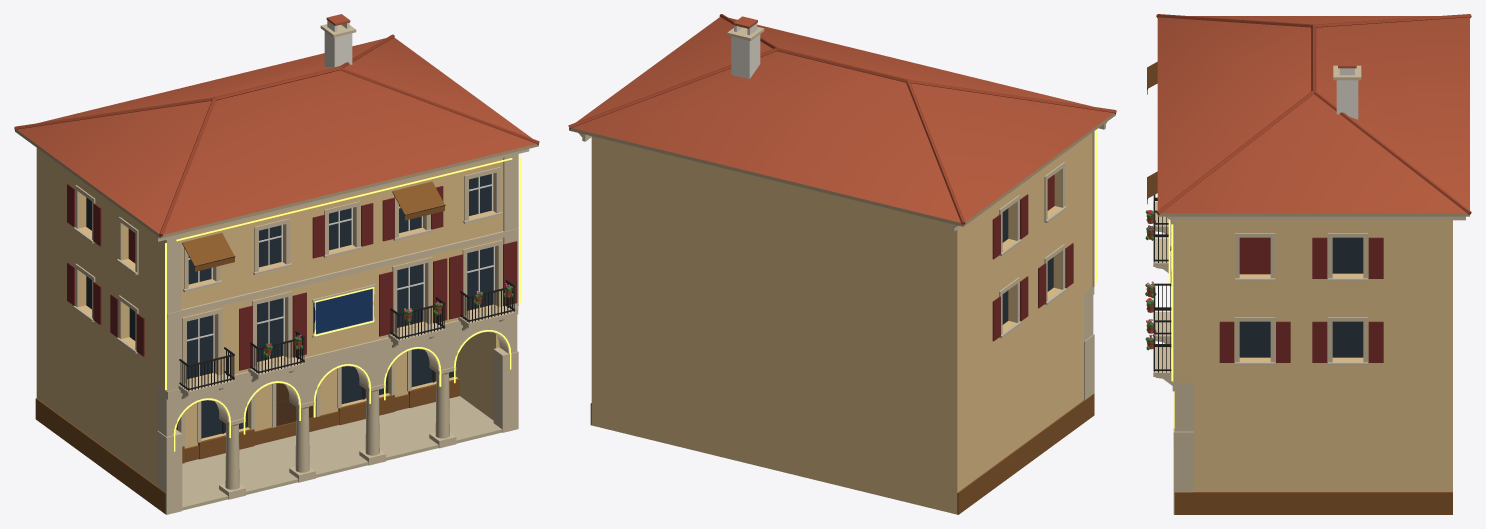
3 views of the same model, side by side, from view 1: azimuth 30°, elevation 25°; view 2: azimuth 150°, elevation 25°; view 3: azimuth 270°, elevation 25° (orthographic). The views are drawn at different scales.
Parts seen in each view (by area): view 1: agents.lod0; view 2: agents.lod0; view 3: agents.lod0.
Boxes of the visible parts, x1,y1,x2,y2 form: agents.lod0: (14,14,539,514); agents.lod0: (568,14,1116,514); agents.lod0: (1145,14,1471,514).
Bounding box in the file's own units: 15.2 × 14.31 × 10.55.
